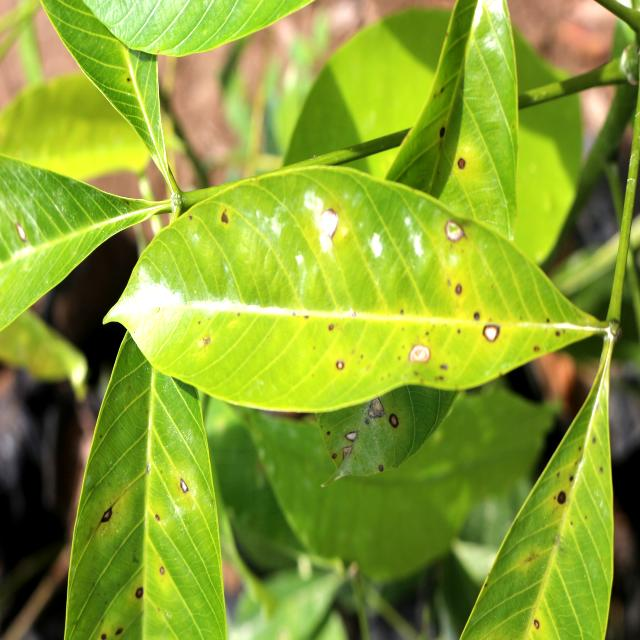Colletotrichum: (408, 344, 431, 366), (482, 323, 500, 342), (345, 430, 358, 443), (389, 413, 399, 428), (557, 490, 566, 505), (180, 478, 188, 493), (455, 284, 463, 295), (136, 587, 144, 598), (336, 360, 344, 370), (458, 158, 465, 169), (440, 127, 445, 138), (378, 464, 384, 472), (534, 620, 539, 629), (160, 566, 165, 575), (332, 453, 337, 459)
